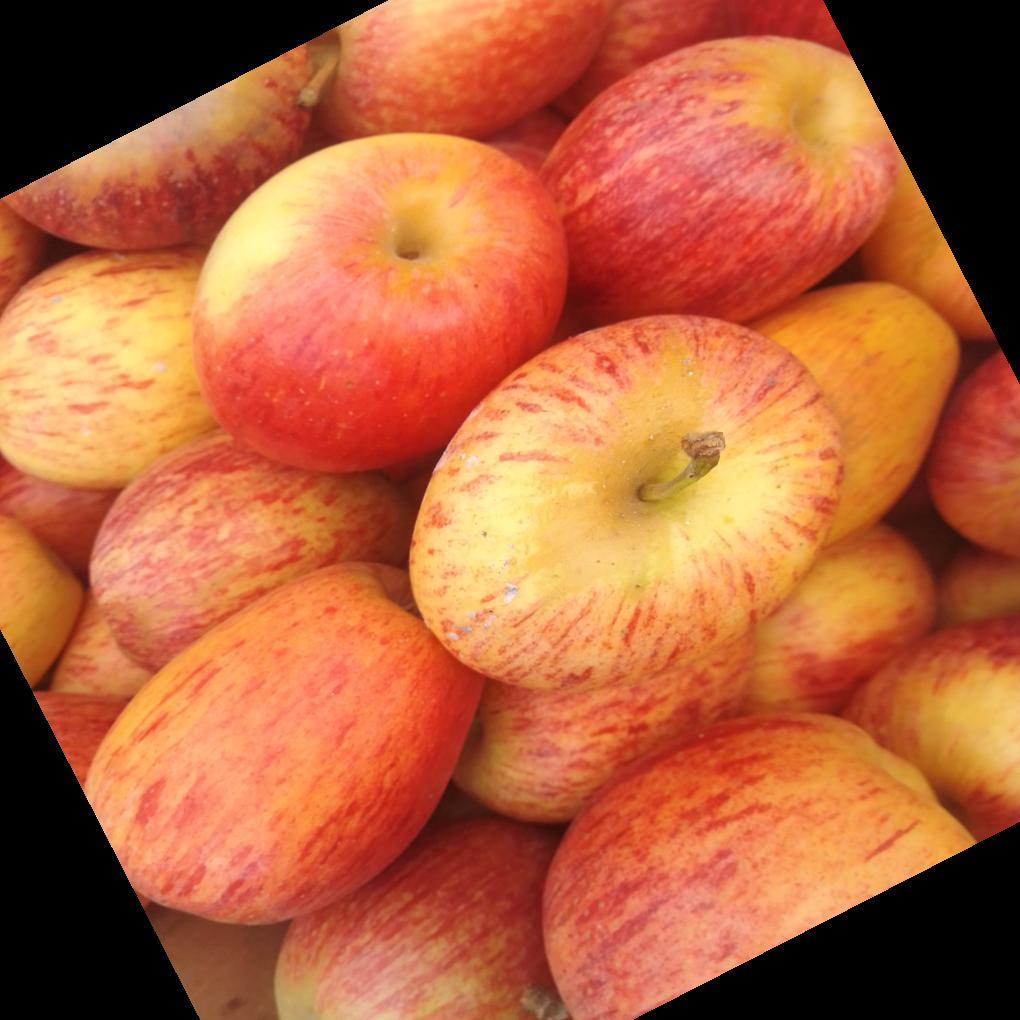FreshGuava: (0, 4, 1020, 1020)
